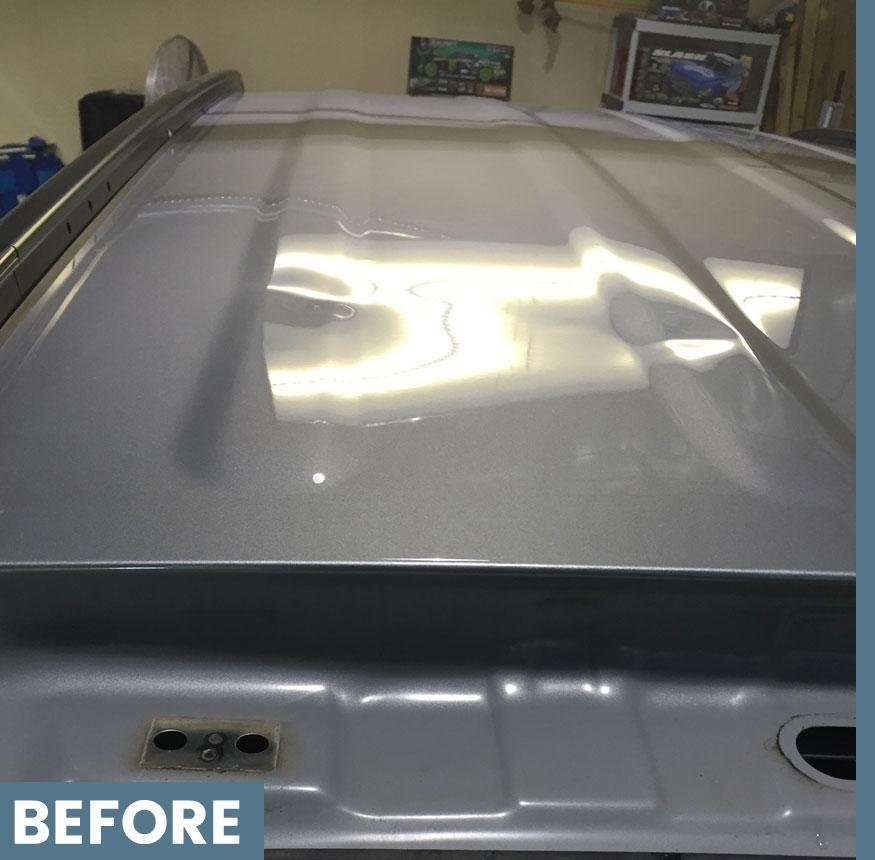dent: (300, 273, 412, 370), (317, 208, 437, 267)
